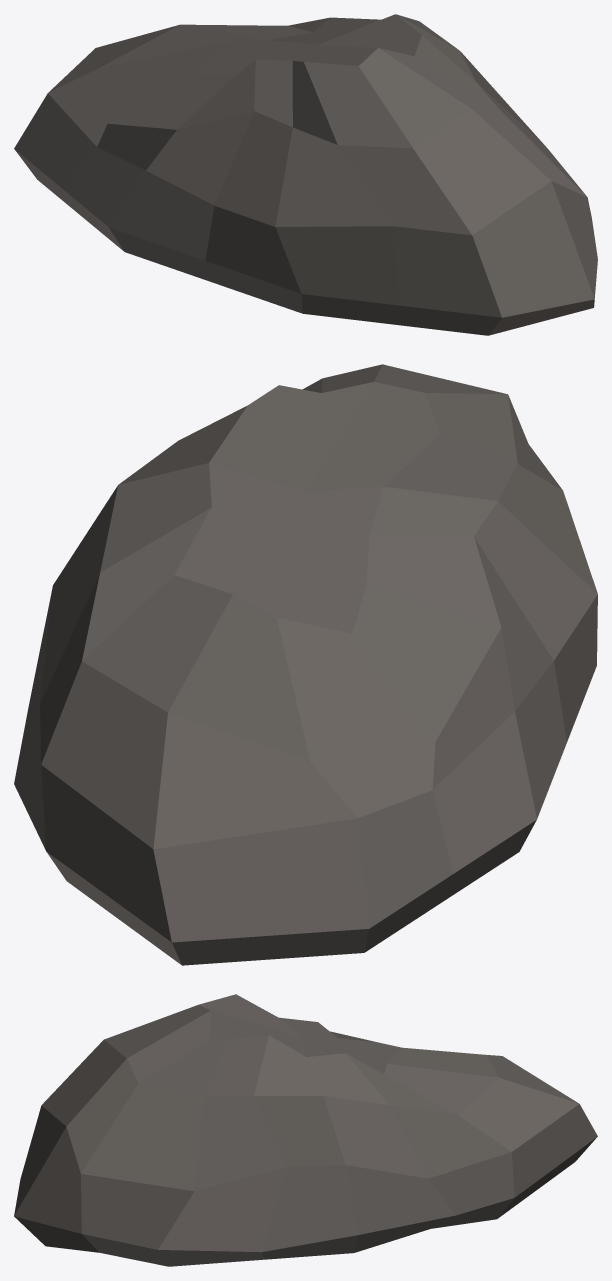
File: Rock_6.fbx
3 views of the same model, one above another, from view 1: azimuth 30°, elevation 25°; view 2: azimuth 150°, elevation 25°; view 3: azimuth 270°, elevation 25° (orthographic). The views are drawn at different scales.
Visible parts, largest first — view 1: Rock_6; view 2: Rock_6; view 3: Rock_6.
Boxes of the visible parts, x1=… form: Rock_6: x1=14, y1=14, x2=597, y2=335; Rock_6: x1=14, y1=364, x2=597, y2=965; Rock_6: x1=14, y1=994, x2=597, y2=1266.
Bounding box in the file's own units: 8.39 × 4.77 × 13.15.
Materials: 1 (1 with a texture image).
